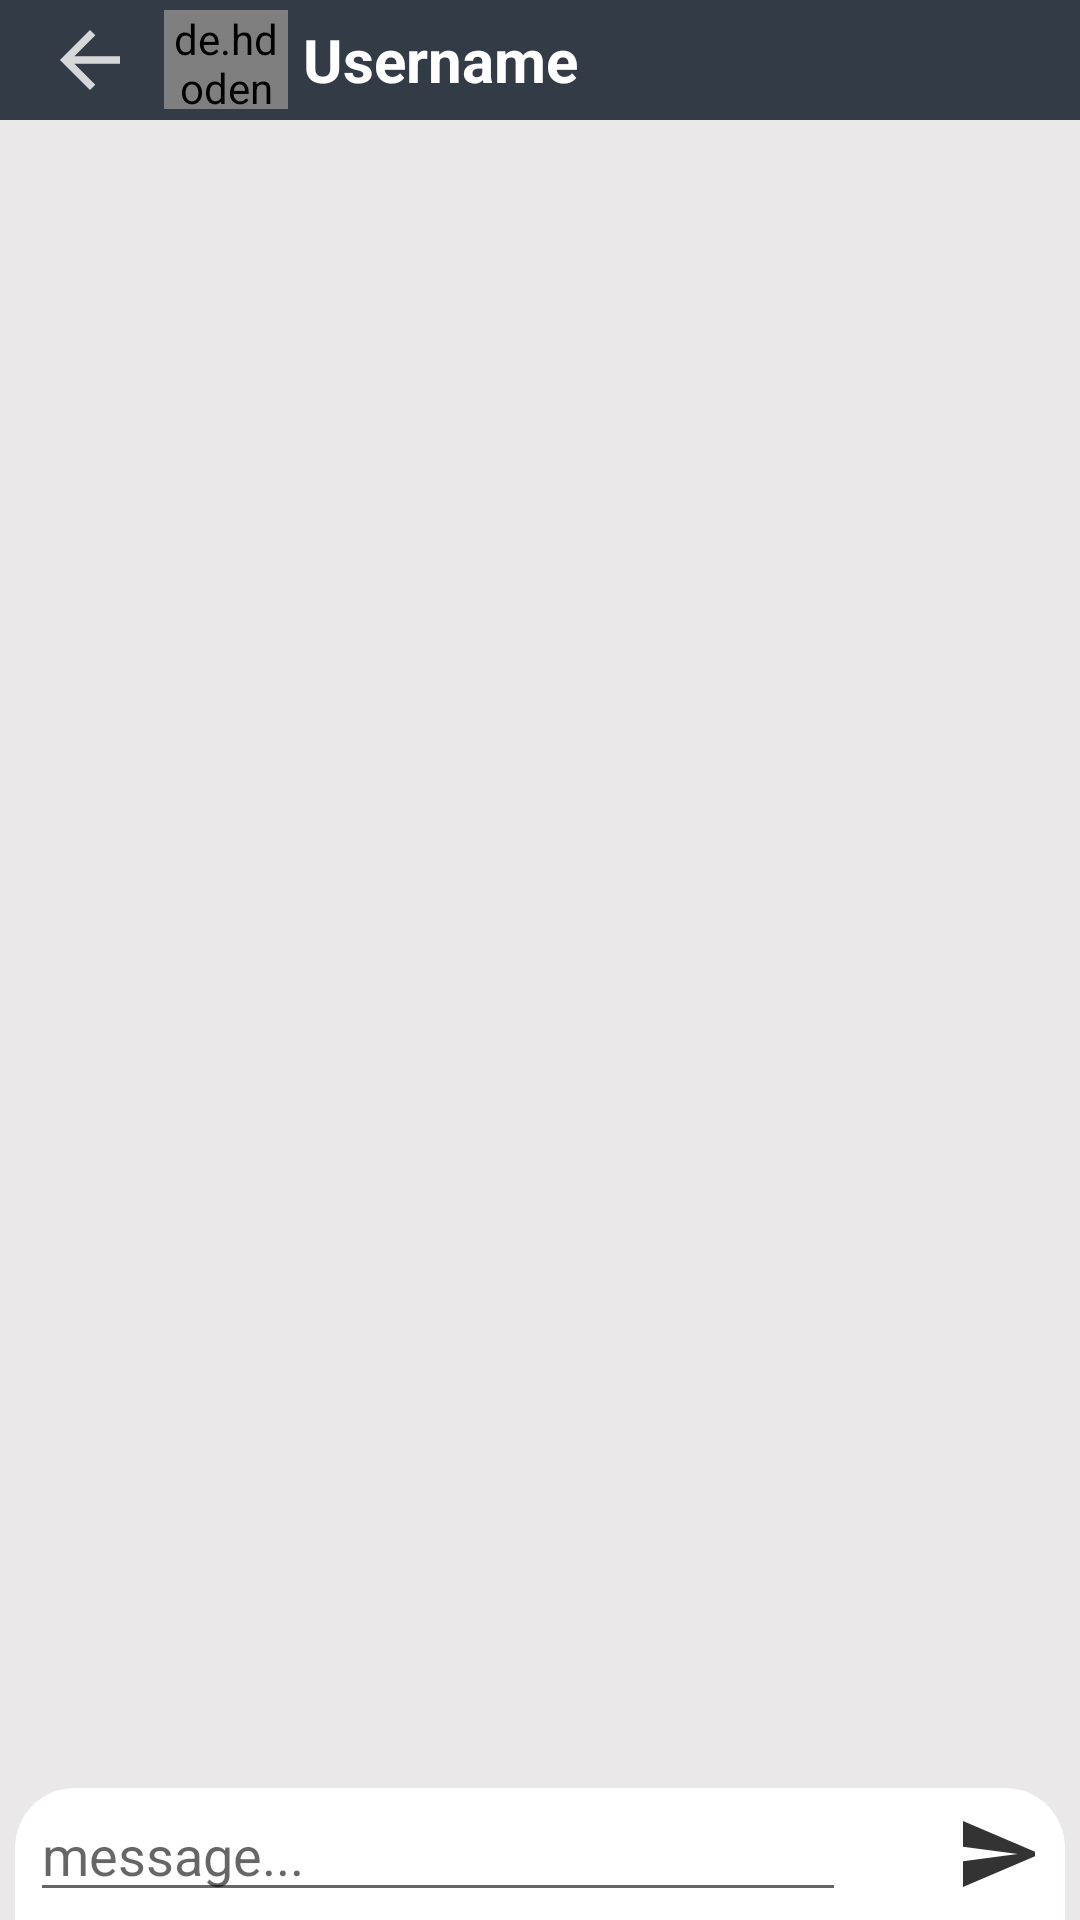

Screen size 1080*1920. Icon name, then its box in pixels as [x1, y1, x2, y2]:
send: [963, 1821, 1035, 1887]
